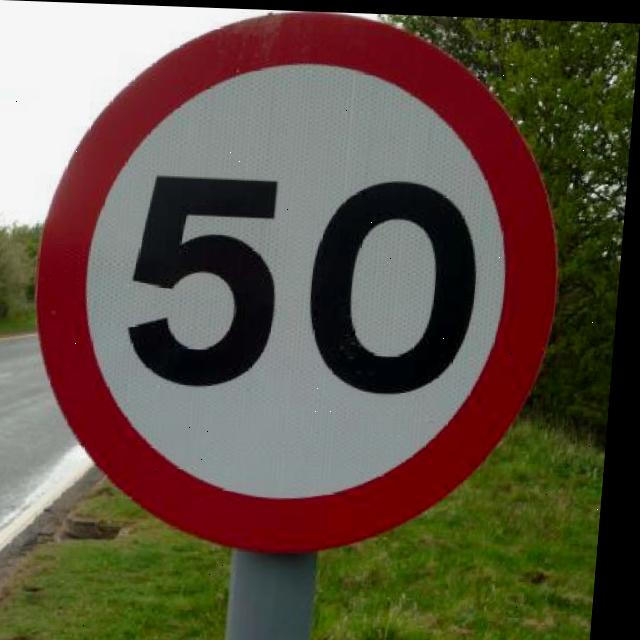Speed limit 50: (20, 3, 584, 563)
